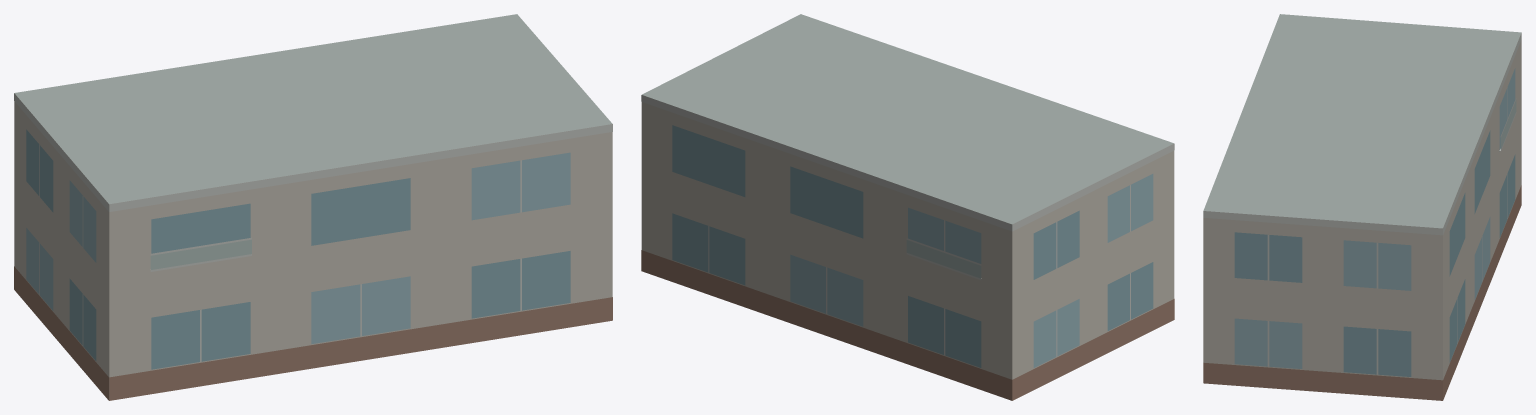
File: survey-upis-32868026.glb
3 renders of one model, left to right at view 1: azimuth 30°, elevation 25°; view 2: azimuth 150°, elevation 25°; view 3: azimuth 270°, elevation 25°, orthographic. The views are drawn at different scales.
Parts seen in each view (by area): view 1: survey-upis-32868026.tmp; view 2: survey-upis-32868026.tmp; view 3: survey-upis-32868026.tmp.
Boxes of the visible parts, box(x1,y1,x2,y2) form: survey-upis-32868026.tmp: box(14, 14, 612, 400); survey-upis-32868026.tmp: box(641, 14, 1174, 400); survey-upis-32868026.tmp: box(1203, 14, 1521, 400).
Bounding box in the file's own units: 16.28 × 6.1 × 10.22.
